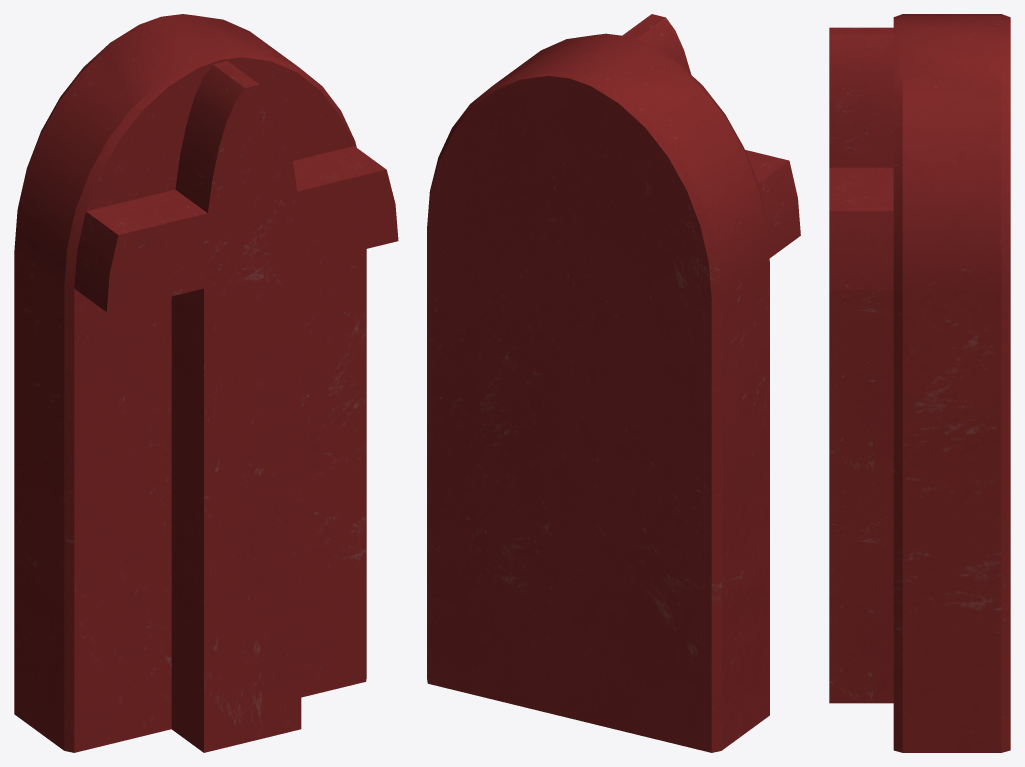
The model's file is GraveStone_2.fbx.
The picture shows the model from 3 angles, left to right: view 1: azimuth 30°, elevation 25°; view 2: azimuth 150°, elevation 25°; view 3: azimuth 270°, elevation 25°; orthographic projection. The views are drawn at different scales.
Visible parts, largest first — view 1: GraveStone_2; view 2: GraveStone_2; view 3: GraveStone_2.
Boxes of the visible parts, x1,y1,x2,y2 form: GraveStone_2: [14, 14, 398, 752]; GraveStone_2: [427, 14, 800, 752]; GraveStone_2: [829, 14, 1010, 752].
Size of the model in its own units: 58.48 by 122 by 30.66.
